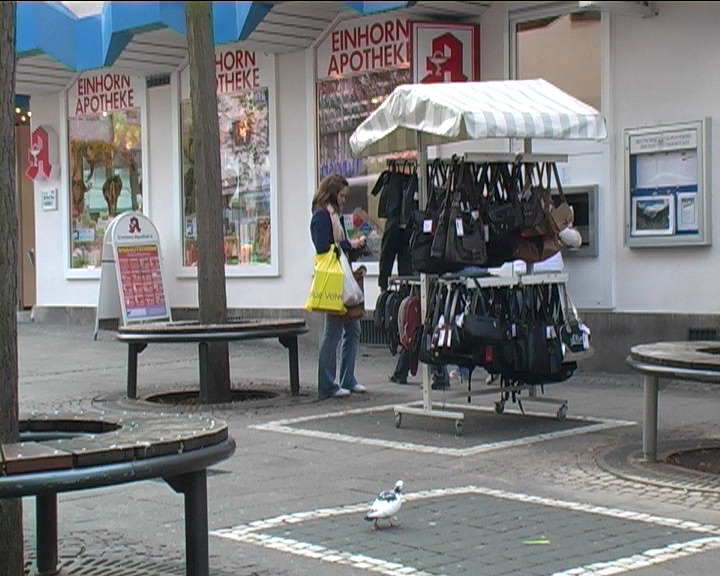undeflect: (305, 169, 361, 246)
